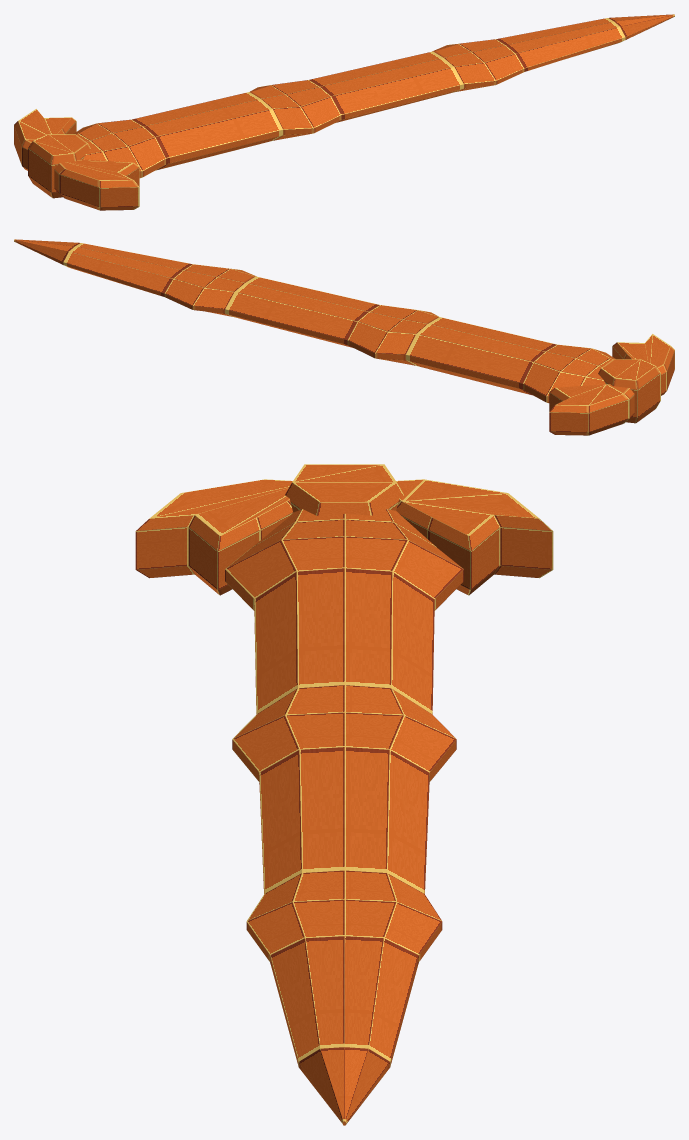
Rendered from bench_chilian_lihuo_sword_1_hot.obj.
3 renders of one model, top to bottom at view 1: azimuth 30°, elevation 25°; view 2: azimuth 150°, elevation 25°; view 3: azimuth 270°, elevation 25°, orthographic. The views are drawn at different scales.
Visible parts, largest first — view 1: geometry; view 2: geometry; view 3: geometry.
Boxes of the visible parts, x1,y1,x2,y2 form: geometry: [14, 14, 674, 210]; geometry: [14, 239, 674, 435]; geometry: [135, 464, 553, 1125].
Size of the model in its own units: 0.75 by 0.0483 by 0.2137.
